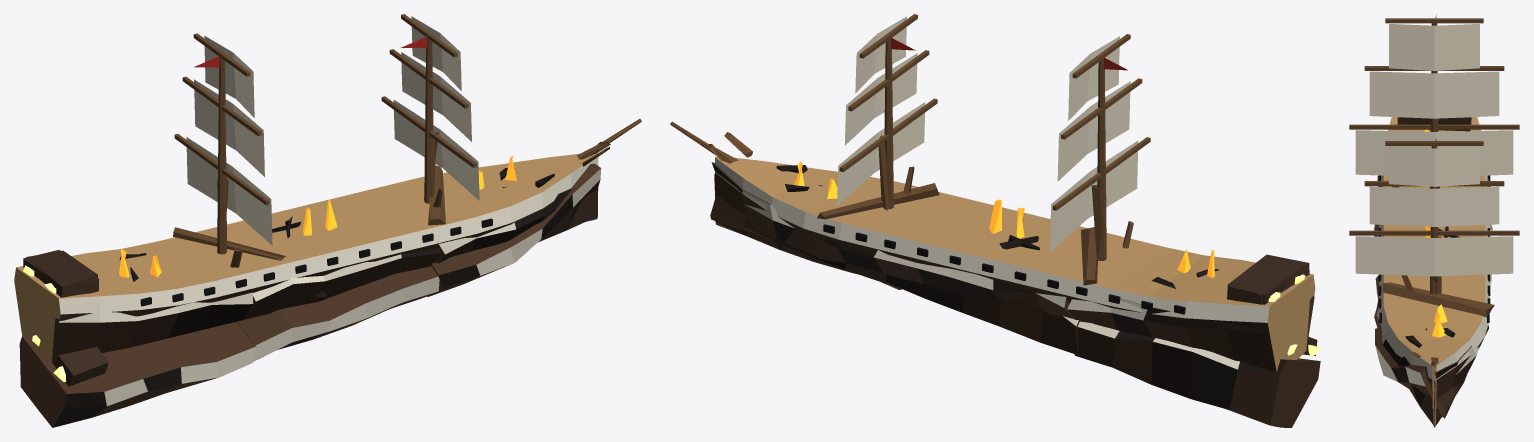
The model's file is ship_s3.glb.
3 views of the same model, side by side, from view 1: azimuth 30°, elevation 25°; view 2: azimuth 150°, elevation 25°; view 3: azimuth 270°, elevation 25° (orthographic). The views are drawn at different scales.
Parts seen in each view (by area): view 1: sunk, seg0, seg2, seg1, seg0_broken, seg1_broken, seg2_broken; view 2: seg0, sunk, seg2, seg1, seg0_broken, seg2_broken, seg1_broken; view 3: seg2, seg0, seg2_broken, sunk, seg1, seg0_broken.
Boxes of the visible parts, x1,y1,x2,y2 form: sunk: (19, 146, 610, 427); seg0: (14, 33, 272, 362); seg2: (381, 14, 641, 248); seg1: (197, 186, 440, 292); seg0_broken: (23, 177, 285, 362); seg1_broken: (243, 199, 441, 319); seg2_broken: (424, 132, 610, 263); seg0: (1050, 34, 1315, 371); sunk: (710, 132, 1320, 427); seg2: (670, 14, 937, 261); seg1: (877, 192, 1124, 306); seg0_broken: (1067, 185, 1314, 372); seg2_broken: (709, 135, 939, 274); seg1_broken: (873, 199, 1072, 318); seg2: (1349, 137, 1519, 427); seg0: (1349, 14, 1519, 188); seg2_broken: (1376, 236, 1494, 427); sunk: (1374, 176, 1466, 418); seg1: (1378, 224, 1490, 298); seg0_broken: (1377, 117, 1492, 229).
Size of the model in its own units: 3.07 by 1.57 by 0.8003.
